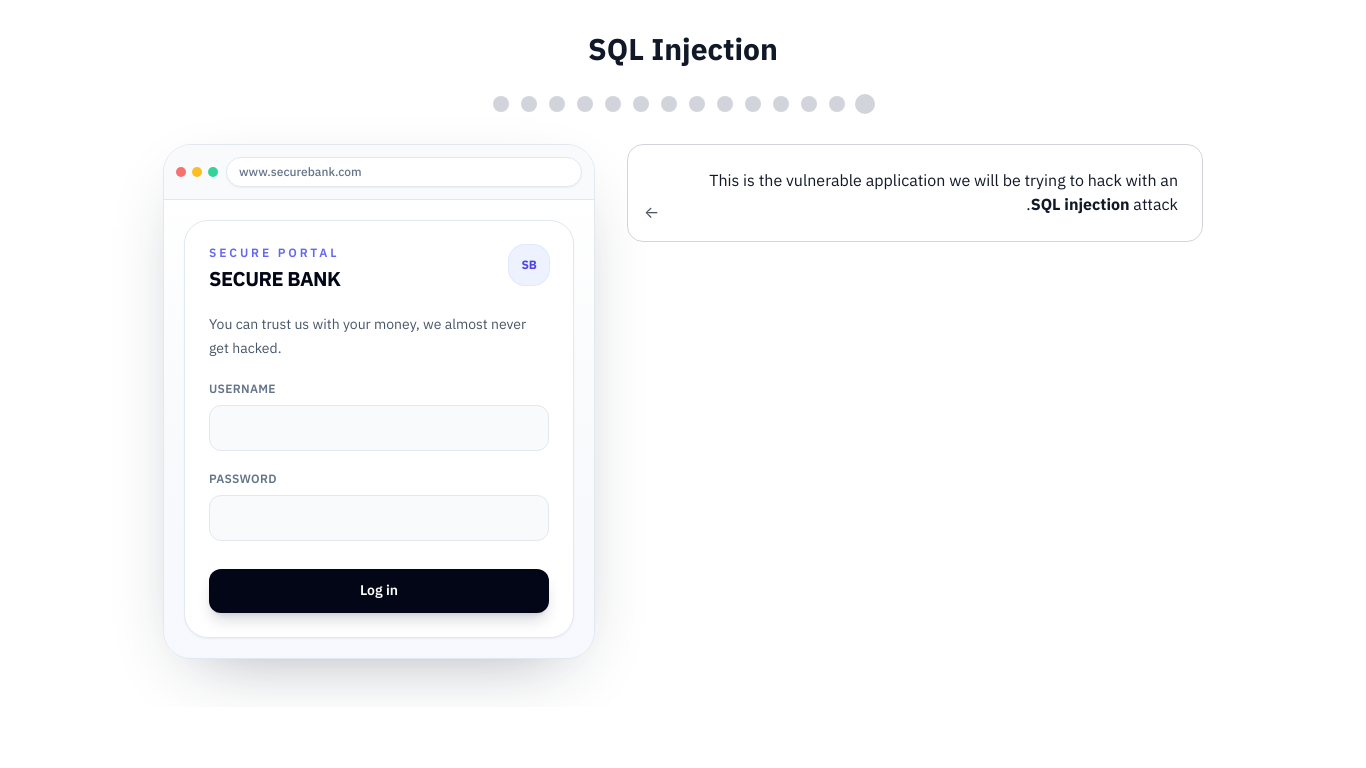
Test: preserves the original successful SQL injection interaction
The width and height of the screenshot is (1366, 768).
Click the button named "Go to step 11" at (585, 104), box [577, 96, 593, 112]
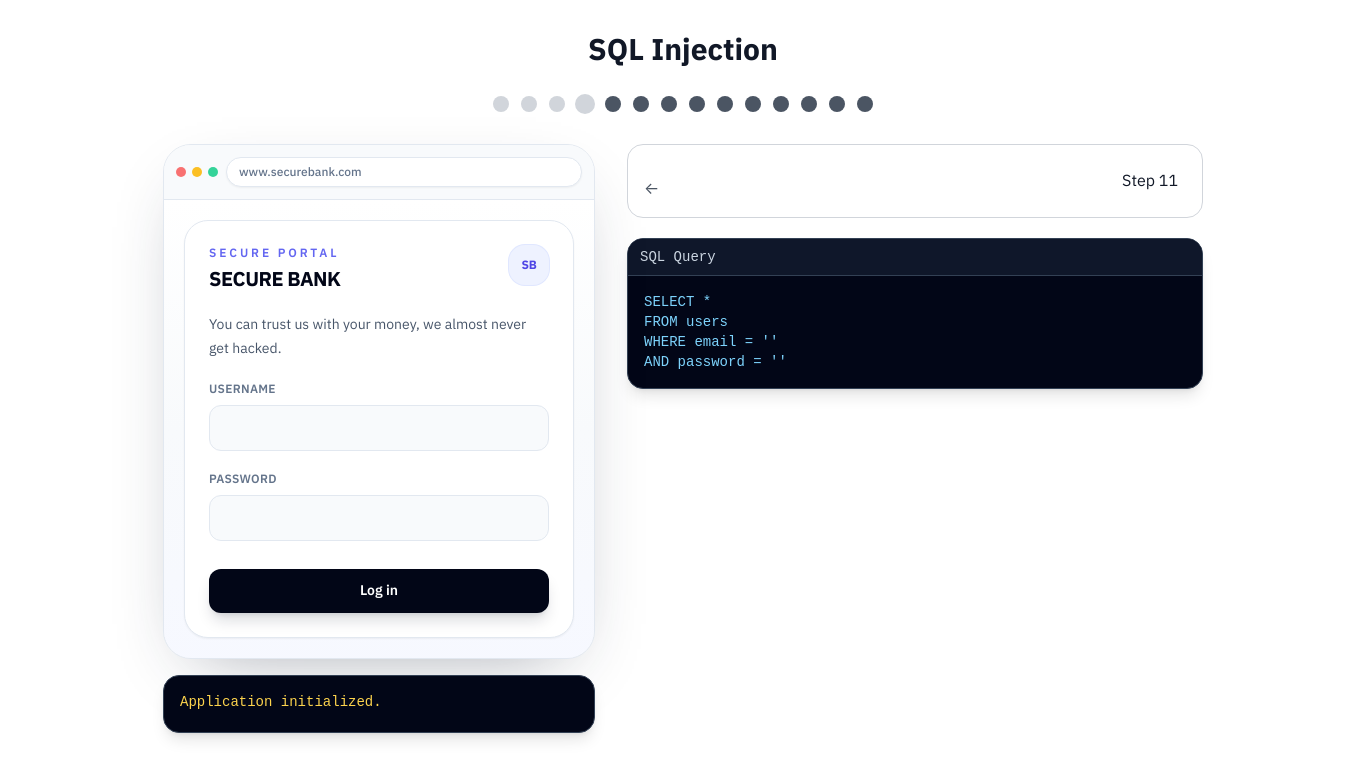
Type "user@email.com" into the 1st field at (379, 428), box [209, 405, 549, 451]
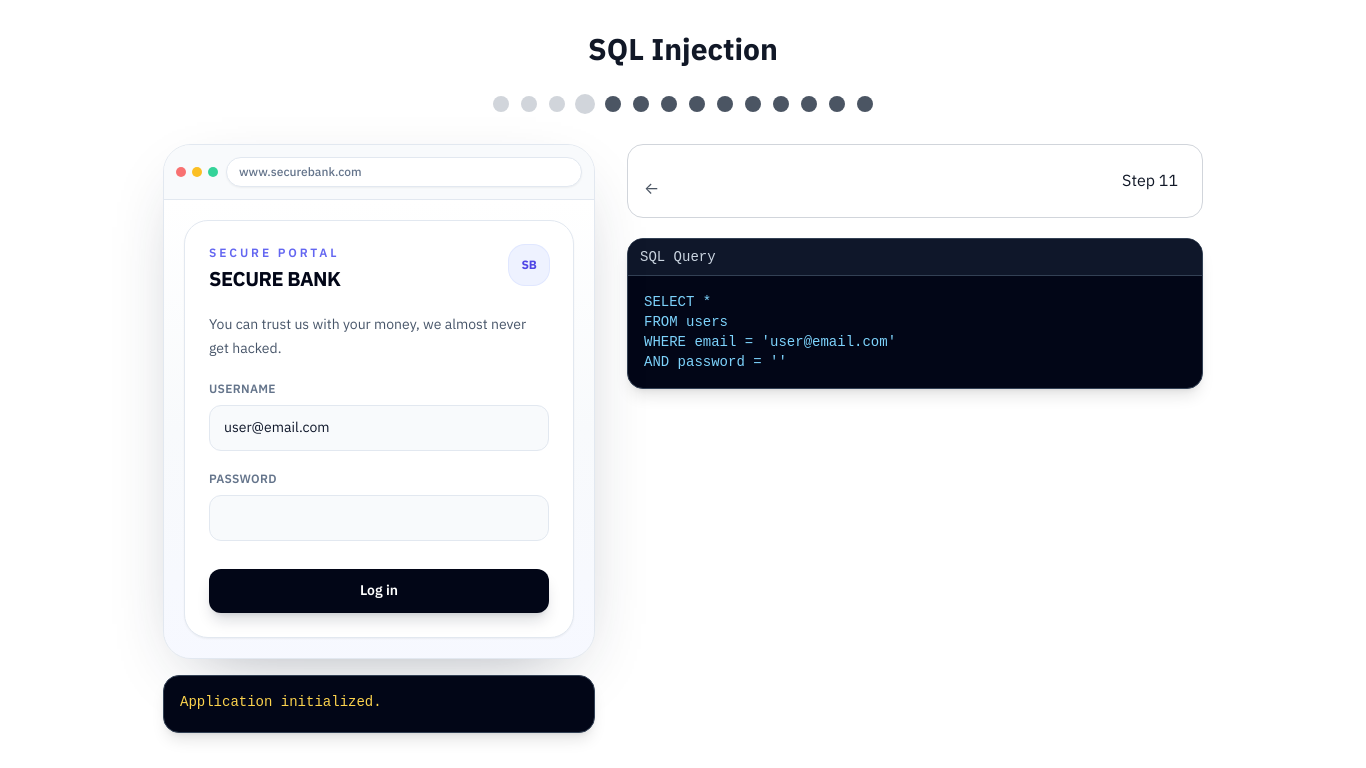
Type "' or 1=1--" into the 2nd field at (379, 518), box [209, 495, 549, 541]
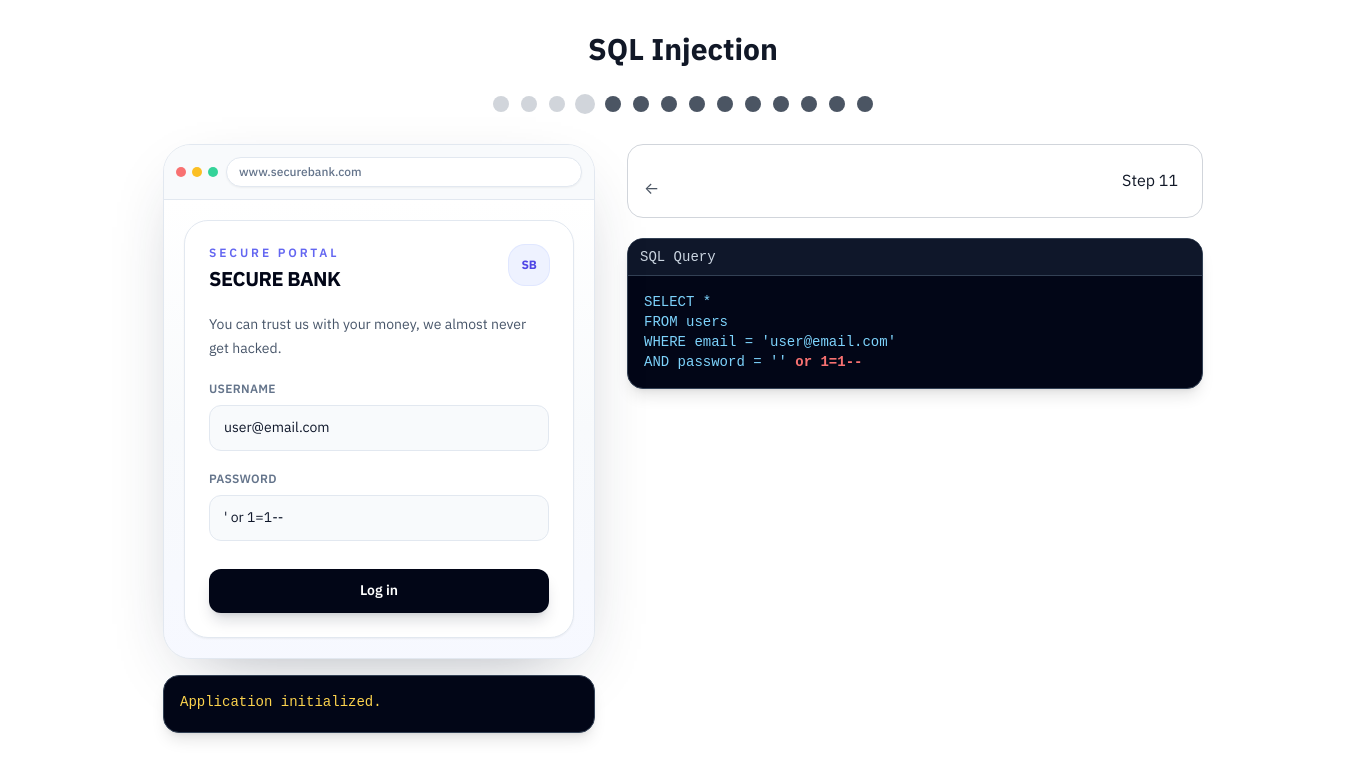
Click the button "Log in" at (379, 591), box [209, 569, 549, 613]
(page scrolled)
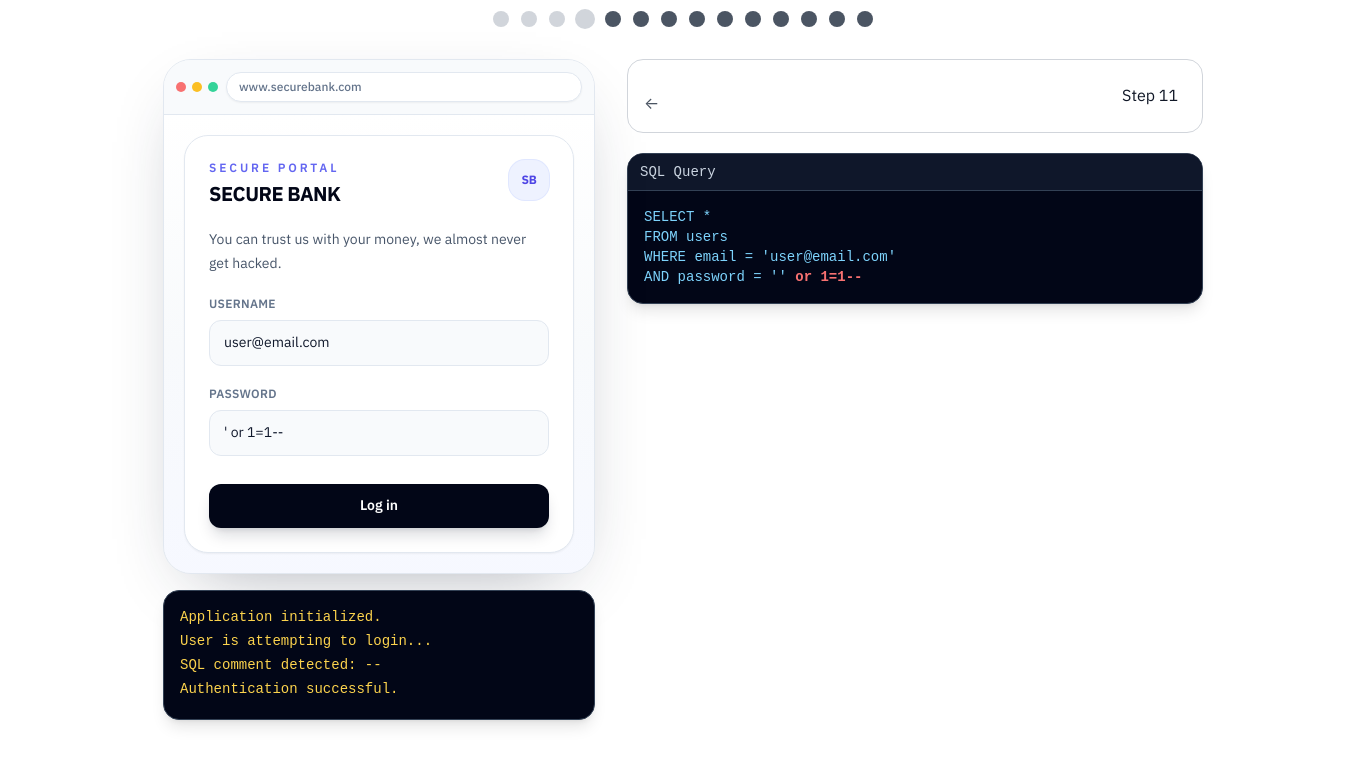
Expected: the text "Authentication successful." is shown, [180, 681, 398, 697]
